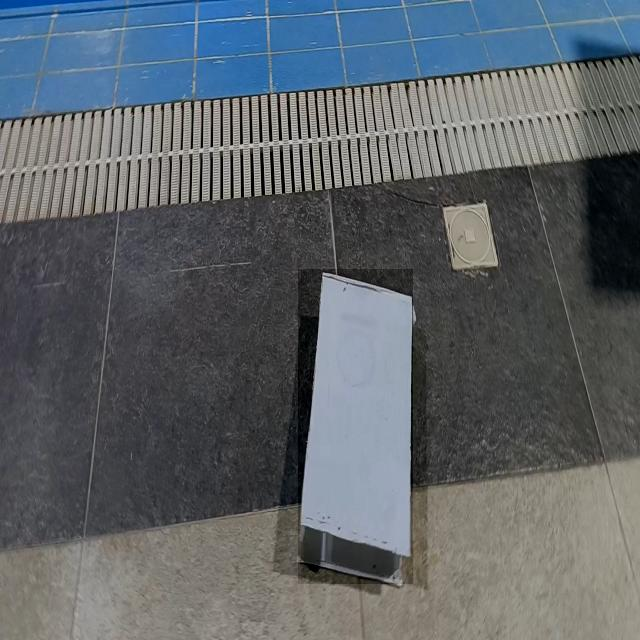Cuboid: (298, 269, 413, 584)
